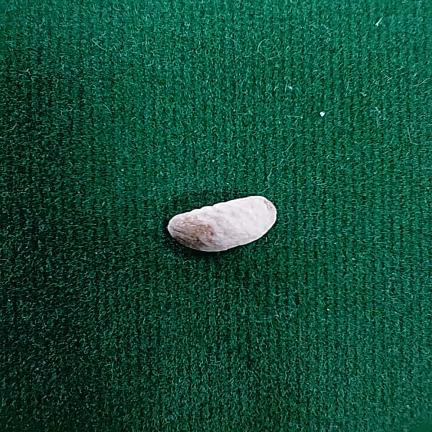shell: (167, 196, 277, 252)
